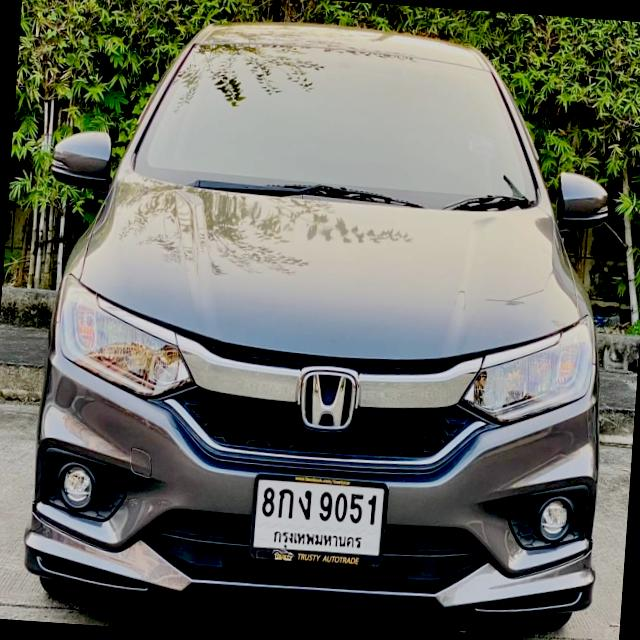license_plate: (247, 468, 390, 570)
